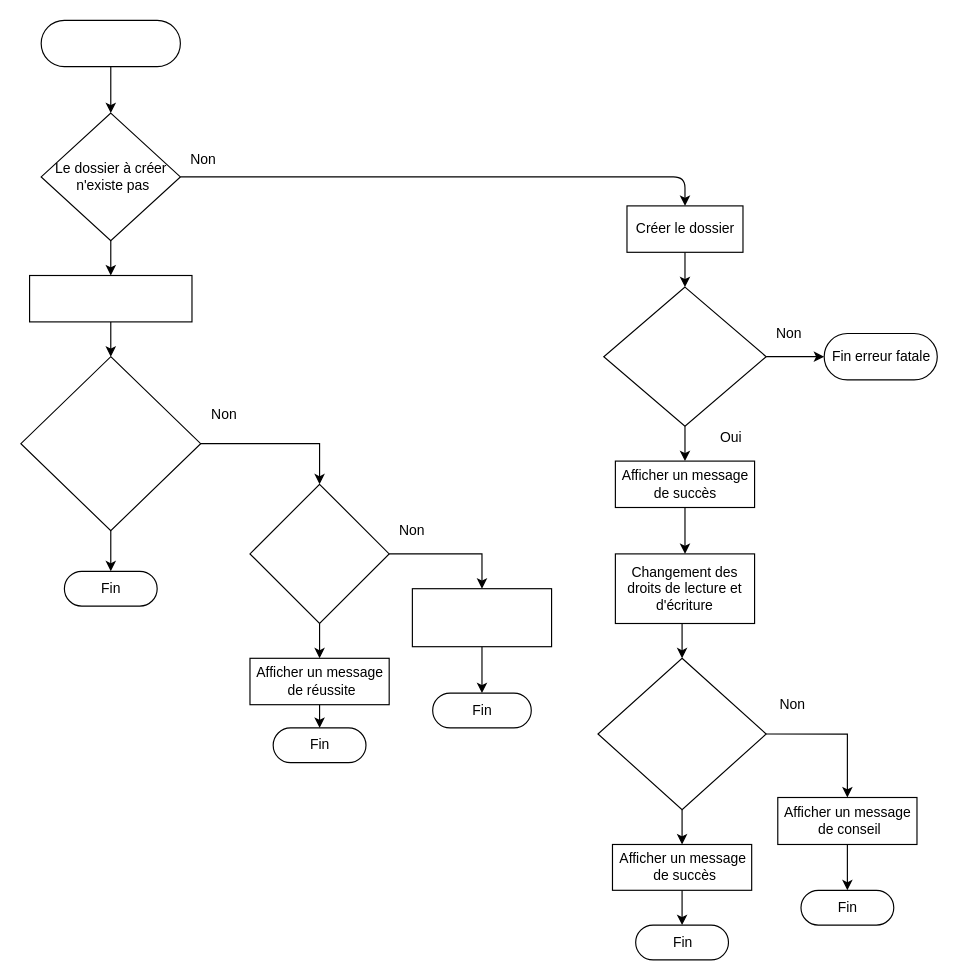
Image size: 957x980. Some labels were removed from this diagram. Here are the shapes that lost their labels. From the top down, the centre of each, then its label:
At (110,43): "Début fonction".
At (110,298): "Redirection du contenu vers le périphérique nul".
At (684,356): "Le fichier à créer a été créé avec succès".
At (110,443): "Le fichier est vide (sa taille en octet est inférieure à 0)".
At (319,553): "La redirection a fonctionné".
At (481,617): "Afficher un message d'échec (pas d'erreur fatale)".
At (681,733): "Le changement des droits a bien eu lieu".
